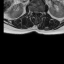CCS_severe_stenosis: (35, 8, 37, 17)
LFS_stenosis: (39, 8, 41, 15)
LLS_normal: (37, 8, 39, 15)
RFS_normal: (31, 8, 33, 15)
RLS_stenosis: (33, 8, 35, 15)
